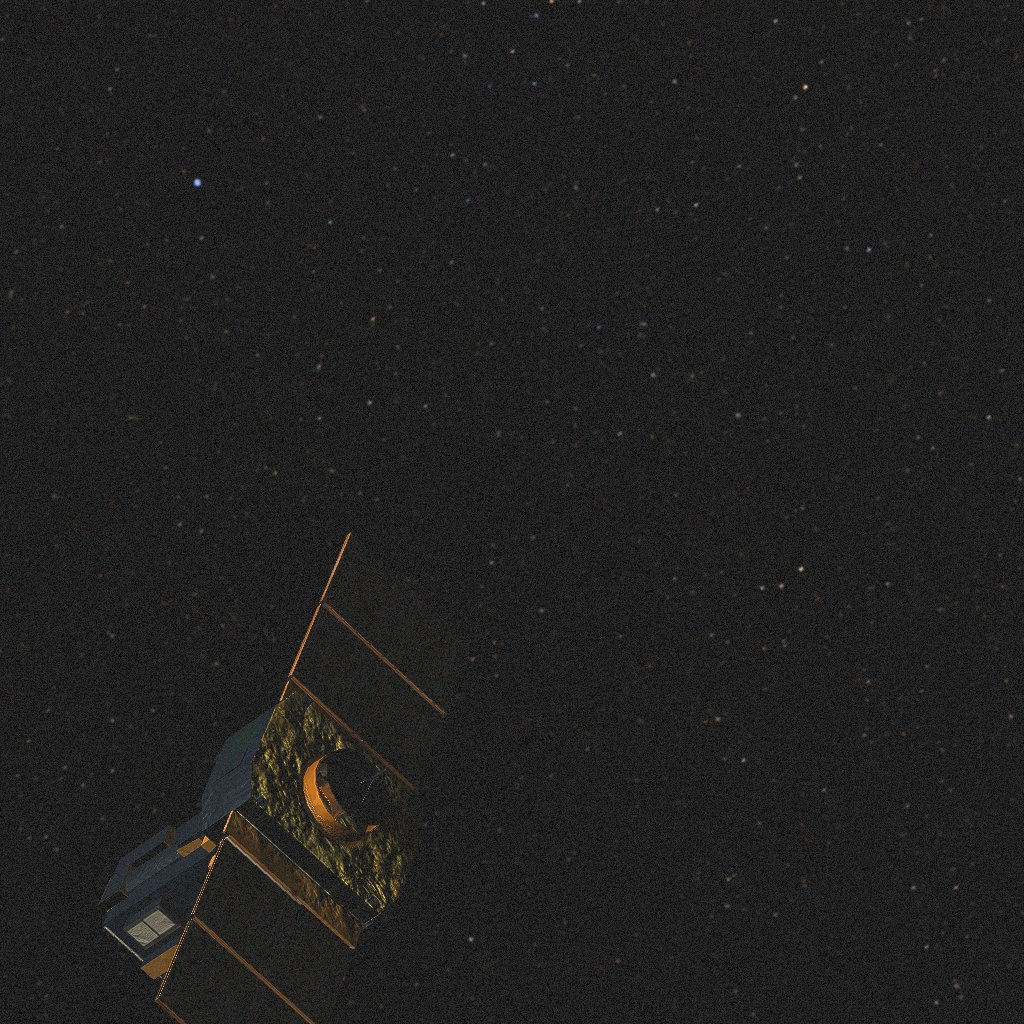soho: (99, 533, 471, 1024)
